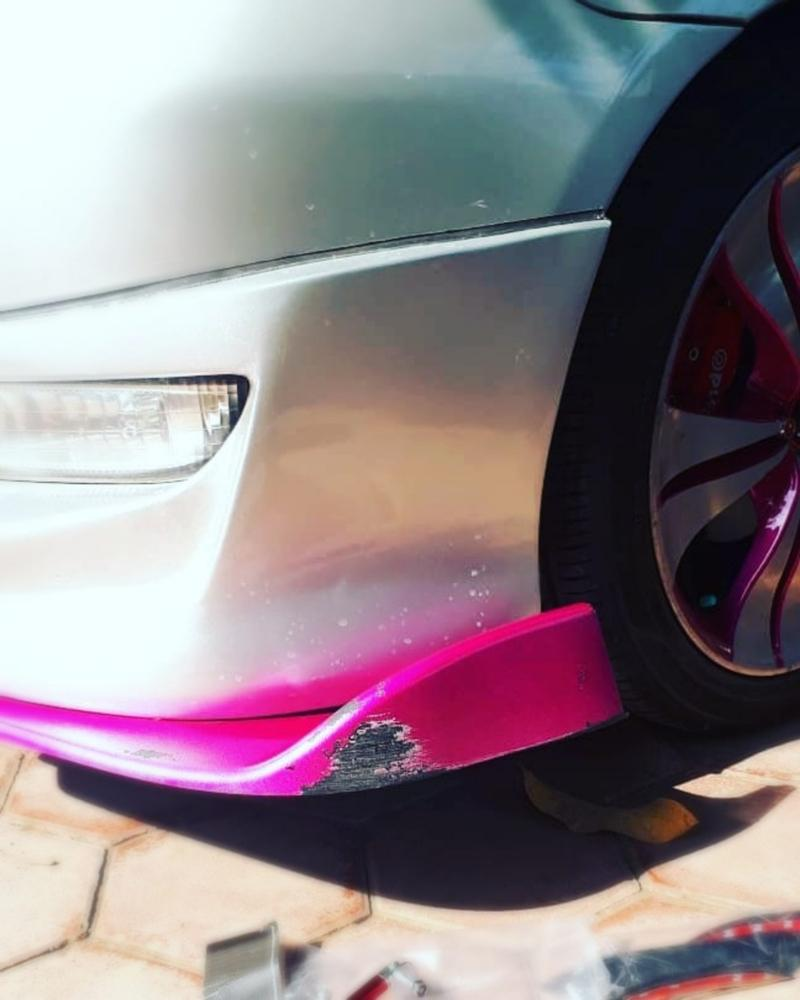scratch: (300, 716, 450, 798)
